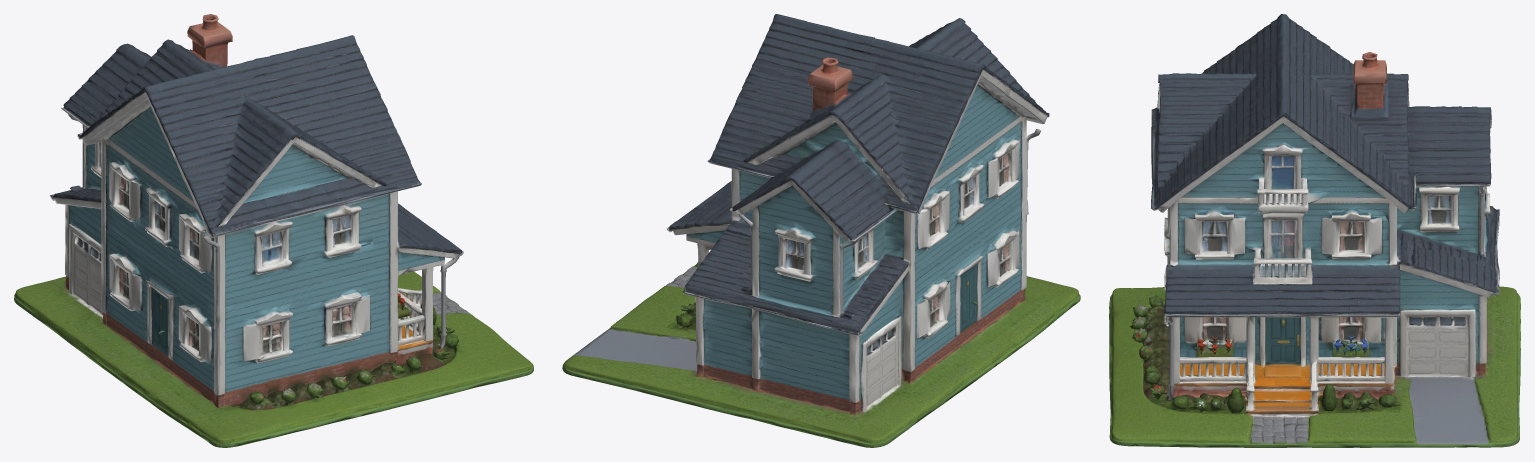
The model's file is house_b.glb.
The picture shows the model from 3 angles, left to right: view 1: azimuth 30°, elevation 25°; view 2: azimuth 150°, elevation 25°; view 3: azimuth 270°, elevation 25°; orthographic projection. The views are drawn at different scales.
Parts seen in each view (by area): view 1: tripo_node_e2924742-47b7-4374-96eb-c8d4e209ea94; view 2: tripo_node_e2924742-47b7-4374-96eb-c8d4e209ea94; view 3: tripo_node_e2924742-47b7-4374-96eb-c8d4e209ea94.
Boxes of the visible parts, x1=… form: tripo_node_e2924742-47b7-4374-96eb-c8d4e209ea94: x1=14, y1=14, x2=533, y2=447; tripo_node_e2924742-47b7-4374-96eb-c8d4e209ea94: x1=562, y1=14, x2=1080, y2=447; tripo_node_e2924742-47b7-4374-96eb-c8d4e209ea94: x1=1109, y1=14, x2=1520, y2=447.
Bounding box in the file's own units: 0.8968 × 0.7969 × 1.
1 material, 1 textured.
